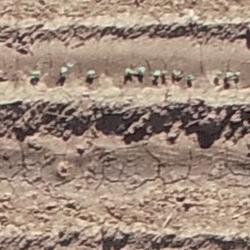cotton: (138, 65, 144, 74), (88, 68, 95, 75), (124, 68, 131, 75), (226, 71, 233, 78), (66, 62, 73, 67), (62, 66, 67, 72), (32, 71, 38, 76), (153, 70, 158, 76), (188, 74, 194, 79), (174, 70, 179, 75), (234, 72, 240, 76)
